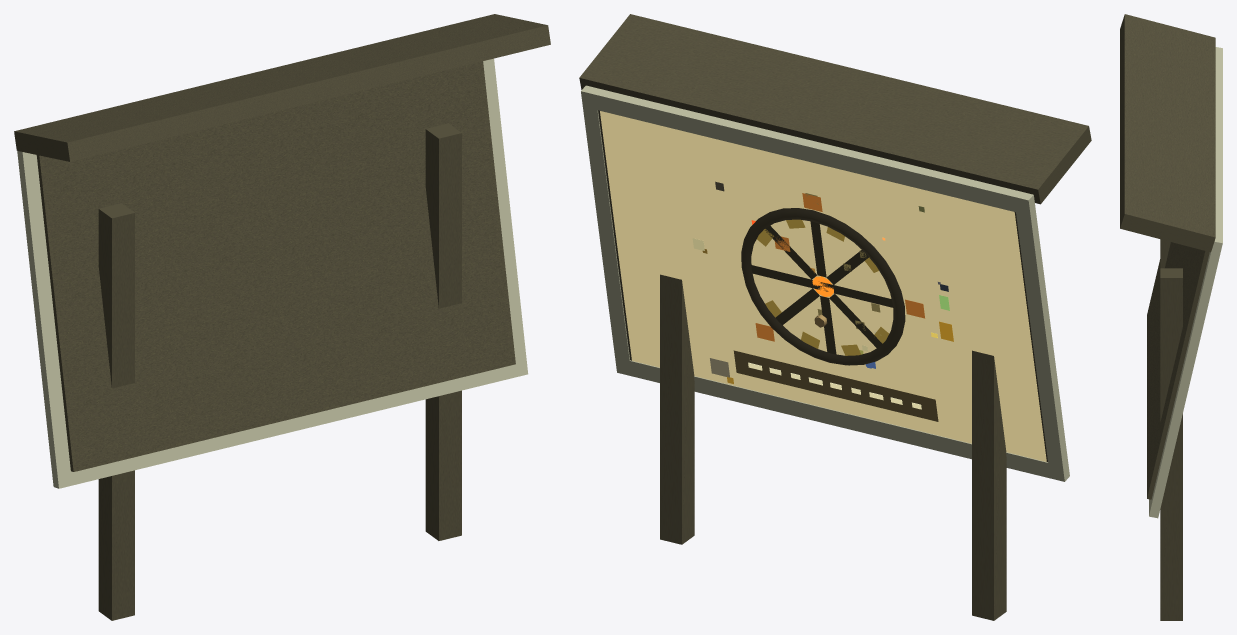
Rendered from candidate.glb.
3 renders of one model, left to right at view 1: azimuth 30°, elevation 25°; view 2: azimuth 150°, elevation 25°; view 3: azimuth 270°, elevation 25°, orthographic. The views are drawn at different scales.
Parts seen in each view (by area): view 1: mb3_0, mb3_1; view 2: mb3_2, mb3_0, mb3_1, mb3_6, mb3_3, mb3_8, mb3_7, mb3_9; view 3: mb3_0, mb3_1.
Part boxes in pixels (bbox=[...]): mb3_0: bbox=[14, 14, 550, 620]; mb3_1: bbox=[17, 58, 528, 488]; mb3_2: bbox=[600, 111, 1046, 461]; mb3_0: bbox=[579, 14, 1091, 620]; mb3_1: bbox=[581, 85, 1069, 481]; mb3_6: bbox=[741, 208, 905, 365]; mb3_3: bbox=[733, 350, 938, 421]; mb3_8: bbox=[757, 219, 888, 355]; mb3_7: bbox=[751, 265, 892, 307]; mb3_9: bbox=[755, 193, 925, 341]; mb3_0: bbox=[1120, 14, 1215, 620]; mb3_1: bbox=[1149, 47, 1222, 518].
Size of the model in its own units: 2.5 by 2.53 by 0.5431.
Materials: 26 (1 with a texture image).
